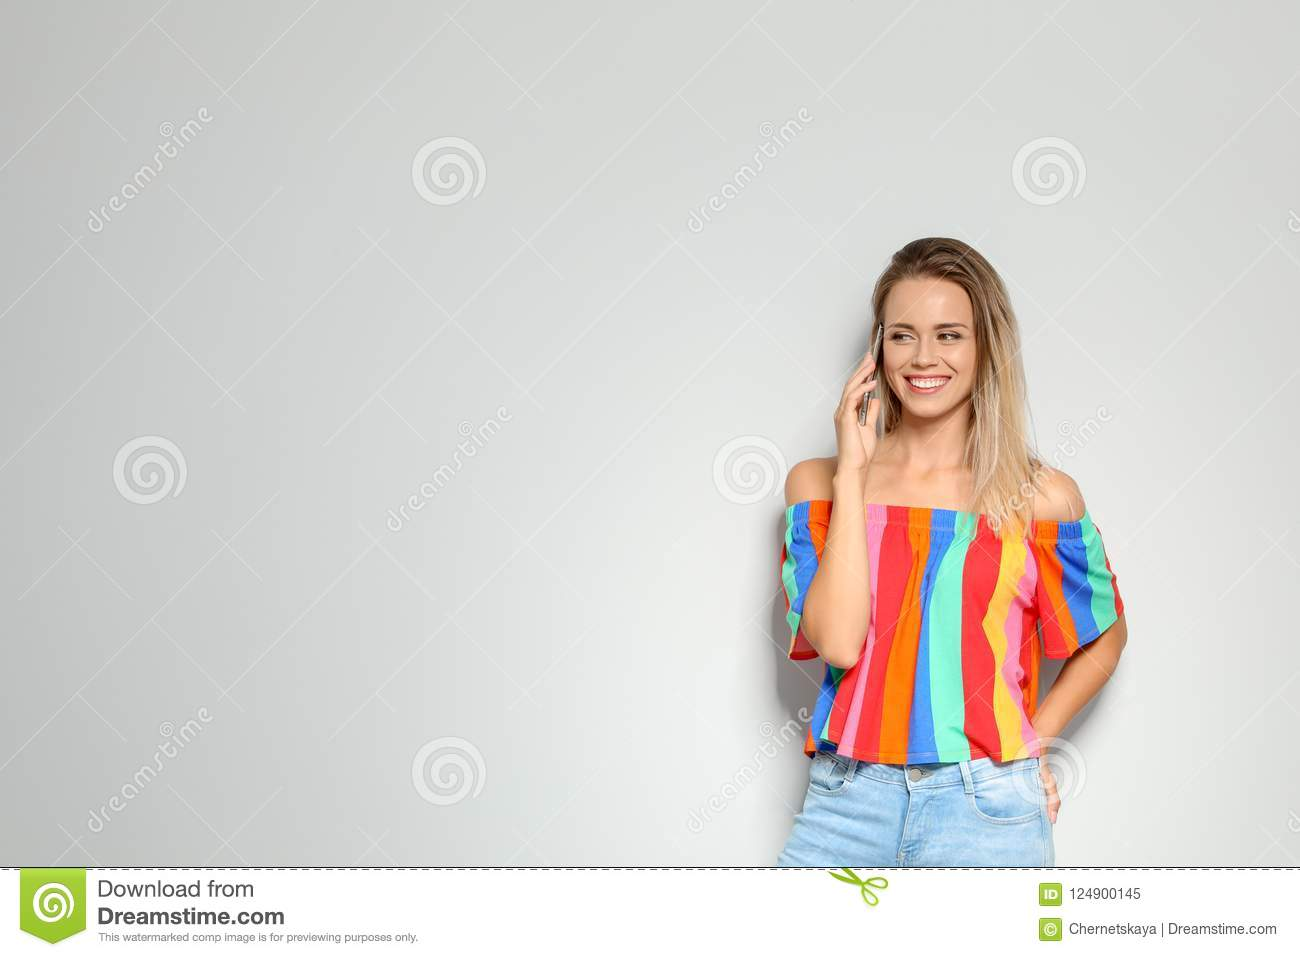phone: (857, 328, 883, 422)
talk: (831, 317, 968, 480)
